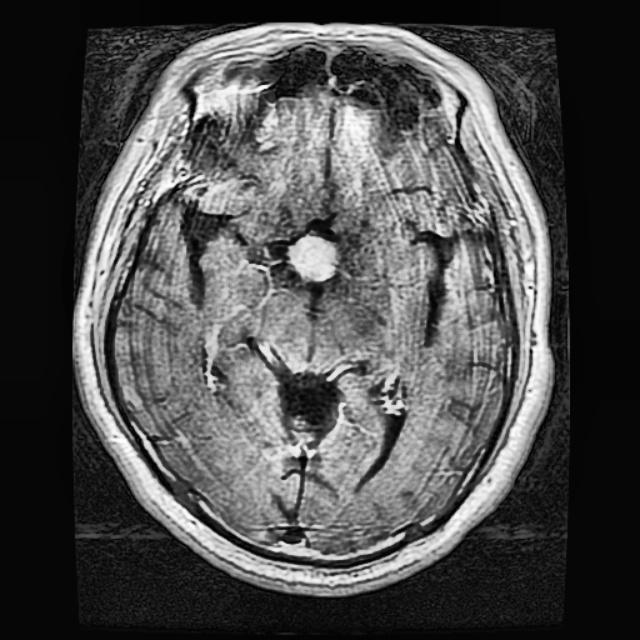Pituitary: (289, 232, 339, 280)
